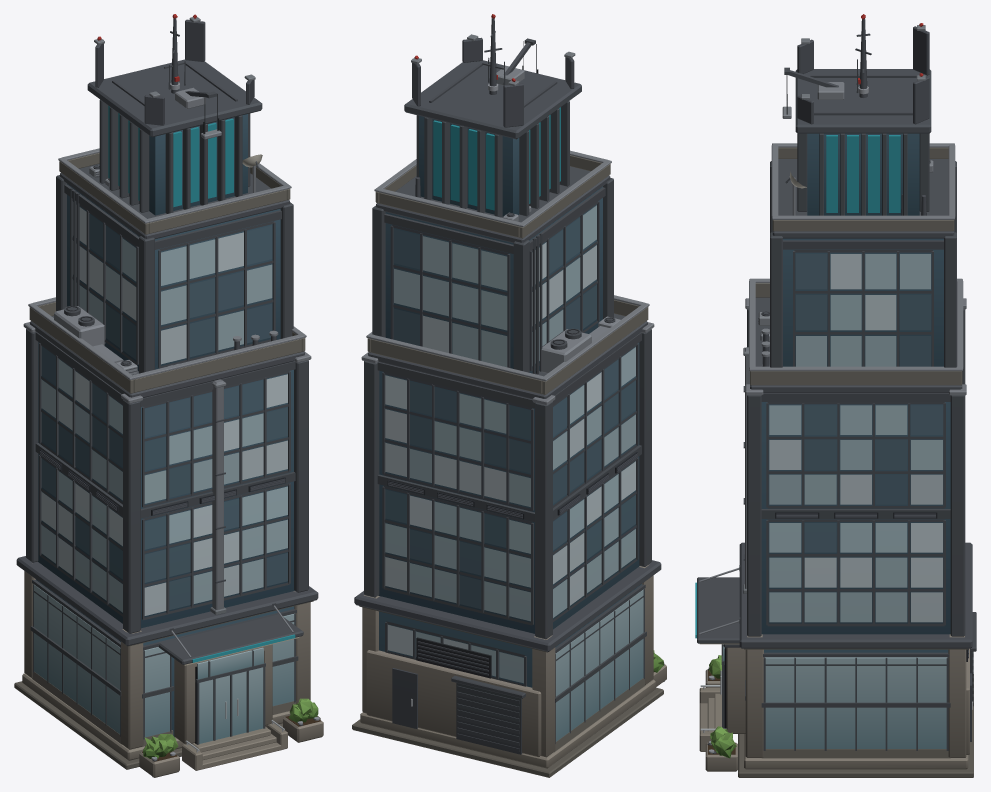
The model's file is glass-skyscraper.glb.
The picture shows the model from 3 angles, left to right: view 1: azimuth 30°, elevation 25°; view 2: azimuth 150°, elevation 25°; view 3: azimuth 270°, elevation 25°; orthographic projection. The views are drawn at different scales.
Parts seen in each view (by area): view 1: glass_skyscraper_01; view 2: glass_skyscraper_01; view 3: glass_skyscraper_01.
Boxes of the visible parts, x1,y1,x2,y2 form: glass_skyscraper_01: [14, 14, 323, 777]; glass_skyscraper_01: [352, 14, 666, 777]; glass_skyscraper_01: [695, 14, 976, 777].
Bounding box in the file's own units: 8 × 26.91 × 9.53.
